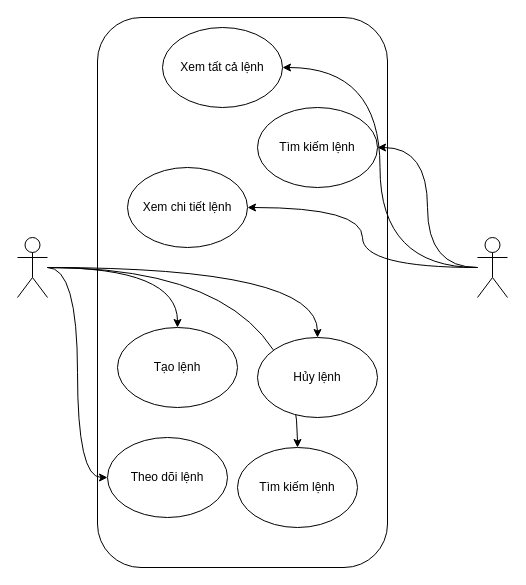
Image size: 526x585. Some labels were removed from this diagram. The shapes that lost their labels are listed below. From the top down, each one's centre as x and y in pixels, then its label:
At point 32,267: "user".
At point 492,267: "admin".
